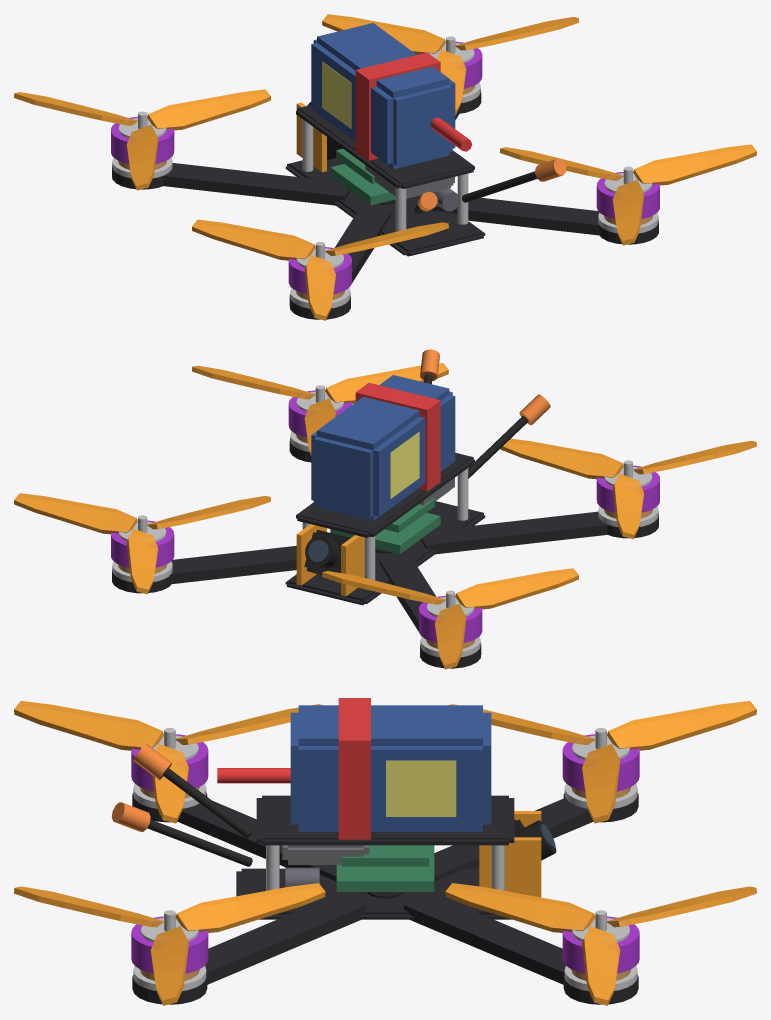
Rendered from freestyle5.glb.
The picture shows the model from 3 angles, top to bottom: view 1: azimuth 30°, elevation 25°; view 2: azimuth 150°, elevation 25°; view 3: azimuth 270°, elevation 25°; orthographic projection. The views are drawn at different scales.
Parts seen in each view (by area): view 1: body, prop_FL, prop_RL, prop_RR, prop_FR, cam_mount; view 2: body, prop_FL, prop_FR, prop_RL, prop_RR, cam_mount, fpv_cam; view 3: body, prop_FR, prop_RR, prop_FL, prop_RL, cam_mount, fpv_cam.
Boxes of the visible parts, x1,y1,x2,y2 form: body: (111, 23, 659, 319); prop_FL: (14, 89, 395, 204); prop_RL: (192, 219, 448, 320); prop_RR: (500, 144, 756, 245); prop_FR: (322, 14, 578, 115); cam_mount: (296, 102, 326, 172); body: (111, 349, 659, 668); prop_FL: (322, 548, 578, 669); prop_FR: (14, 493, 270, 594); prop_RL: (500, 438, 756, 539); prop_RR: (192, 363, 448, 455); cam_mount: (296, 524, 364, 596); fpv_cam: (304, 529, 350, 575); body: (111, 698, 639, 1004); prop_FR: (445, 883, 756, 1005); prop_RR: (14, 883, 325, 1005); prop_FL: (367, 701, 756, 898); prop_RL: (14, 701, 322, 823); cam_mount: (479, 811, 541, 897); fpv_cam: (514, 819, 556, 860).
Size of the model in its own units: 0.2585 by 0.0765 by 0.2739.
